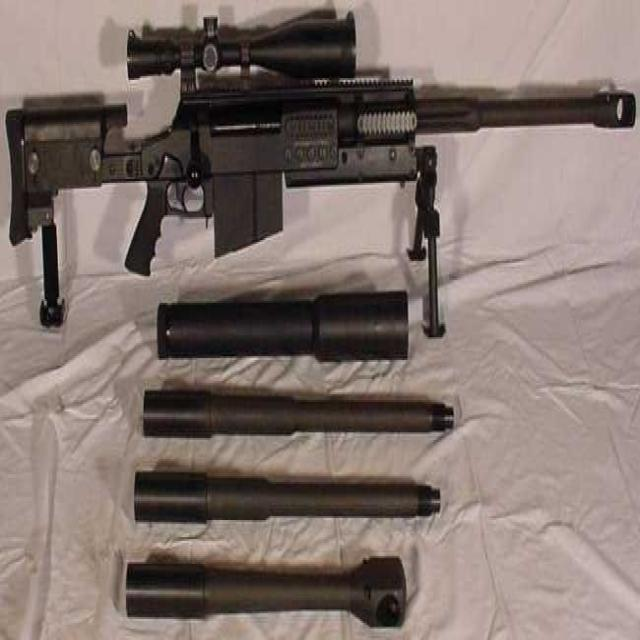weapon: (5, 9, 634, 274)
